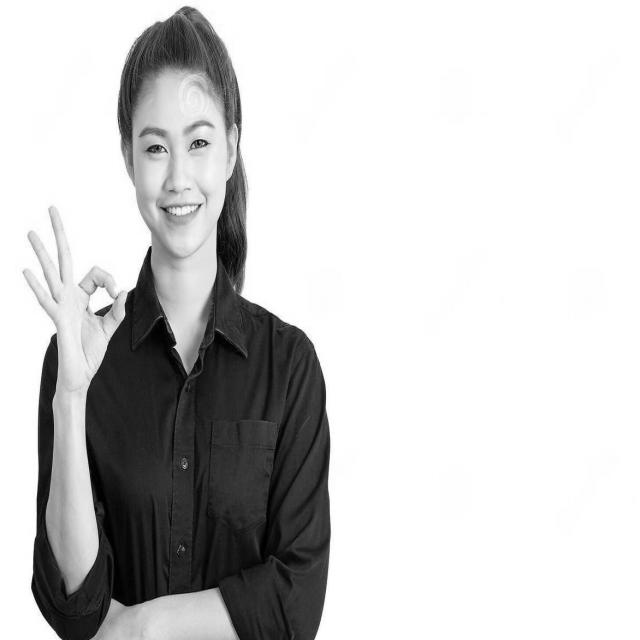perfect: (18, 195, 129, 396)
